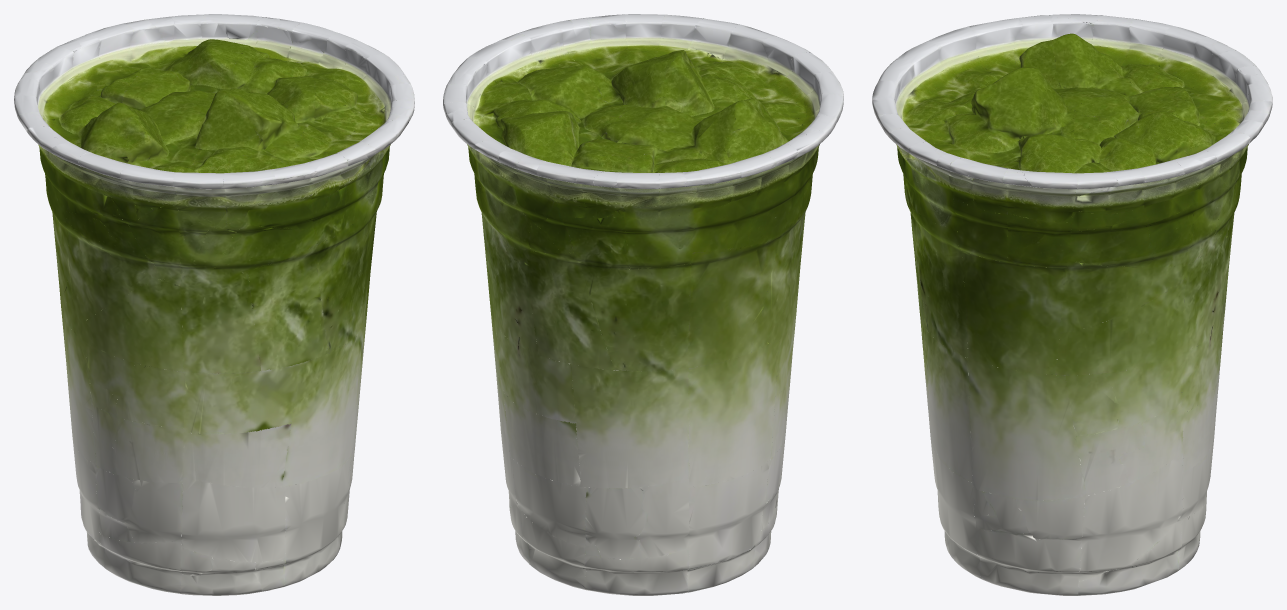
The model's file is matcha.glb.
3 views of the same model, side by side, from view 1: azimuth 30°, elevation 25°; view 2: azimuth 150°, elevation 25°; view 3: azimuth 270°, elevation 25° (orthographic).
Visible parts, largest first — view 1: Mesh_0; view 2: Mesh_0; view 3: Mesh_0.
Boxes of the visible parts, <box> form: Mesh_0: <box>14,14,414,595</box>; Mesh_0: <box>443,14,843,595</box>; Mesh_0: <box>872,14,1272,595</box>.
Size of the model in its own units: 0.7726 by 0.9999 by 0.7708.
Materials: 1 (1 with a texture image).
